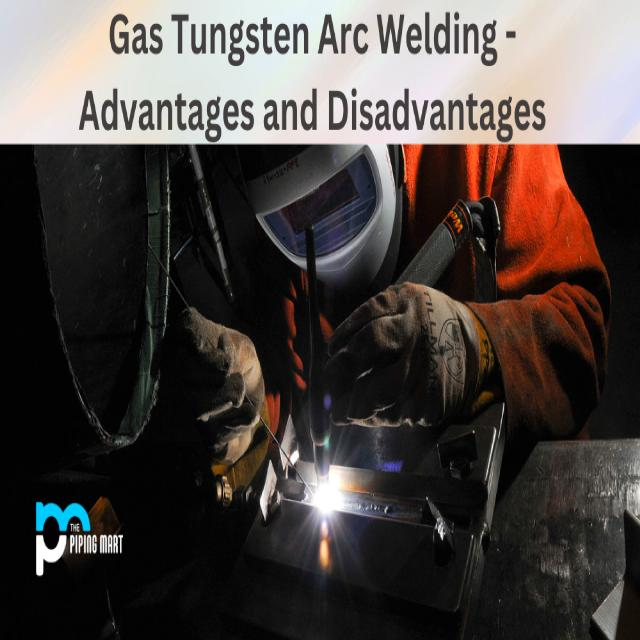welding: (313, 481, 338, 519)
